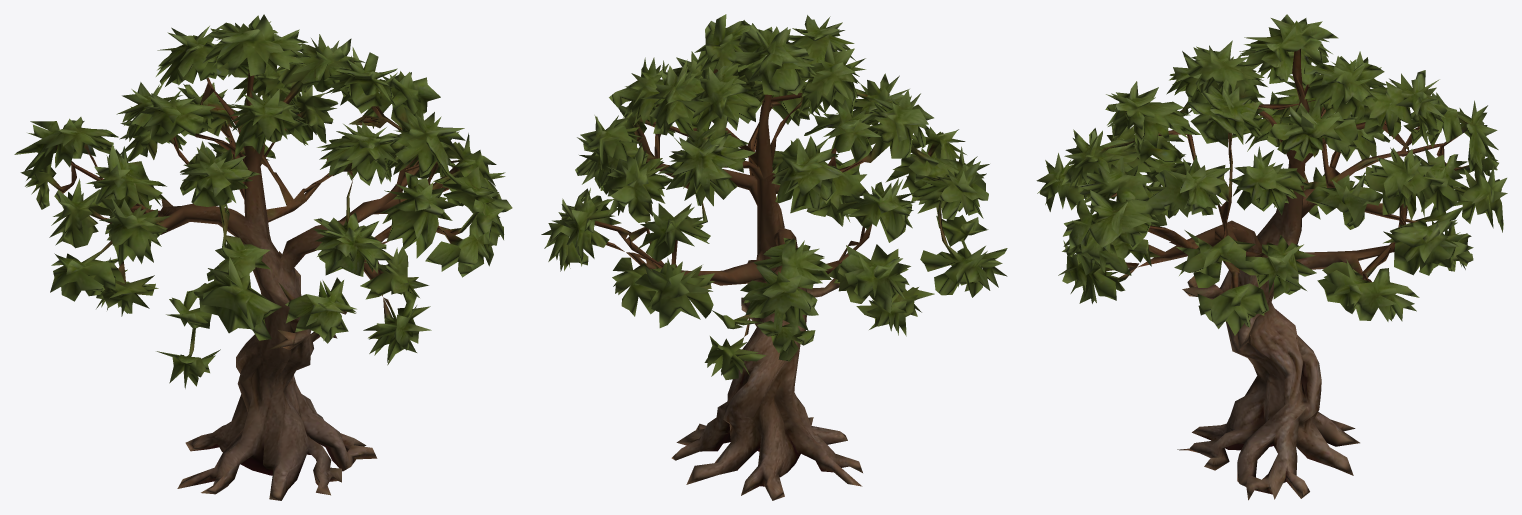
The picture shows the model from 3 angles, left to right: view 1: azimuth 30°, elevation 25°; view 2: azimuth 150°, elevation 25°; view 3: azimuth 270°, elevation 25°; orthographic projection. The views are drawn at different scales.
Parts seen in each view (by area): view 1: tripo_node_bd25754c-ed66-4b91-98c9-5960cebd8a78; view 2: tripo_node_bd25754c-ed66-4b91-98c9-5960cebd8a78; view 3: tripo_node_bd25754c-ed66-4b91-98c9-5960cebd8a78.
Boxes of the visible parts, <box> form: tripo_node_bd25754c-ed66-4b91-98c9-5960cebd8a78: <box>14,14,512,500</box>; tripo_node_bd25754c-ed66-4b91-98c9-5960cebd8a78: <box>541,14,1007,500</box>; tripo_node_bd25754c-ed66-4b91-98c9-5960cebd8a78: <box>1036,14,1507,500</box>.
Bounding box in the file's own units: 1 × 0.9901 × 0.9743.
1 material, 1 textured.
